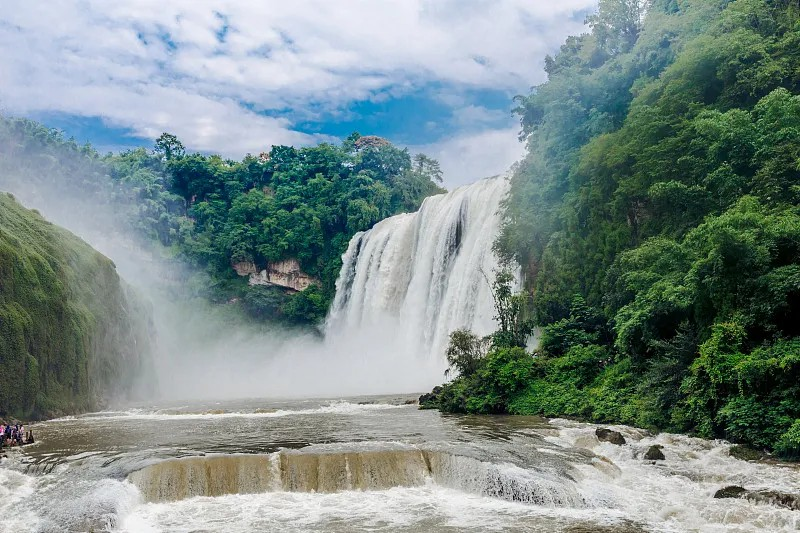Huangguoshu: (323, 174, 525, 395)
